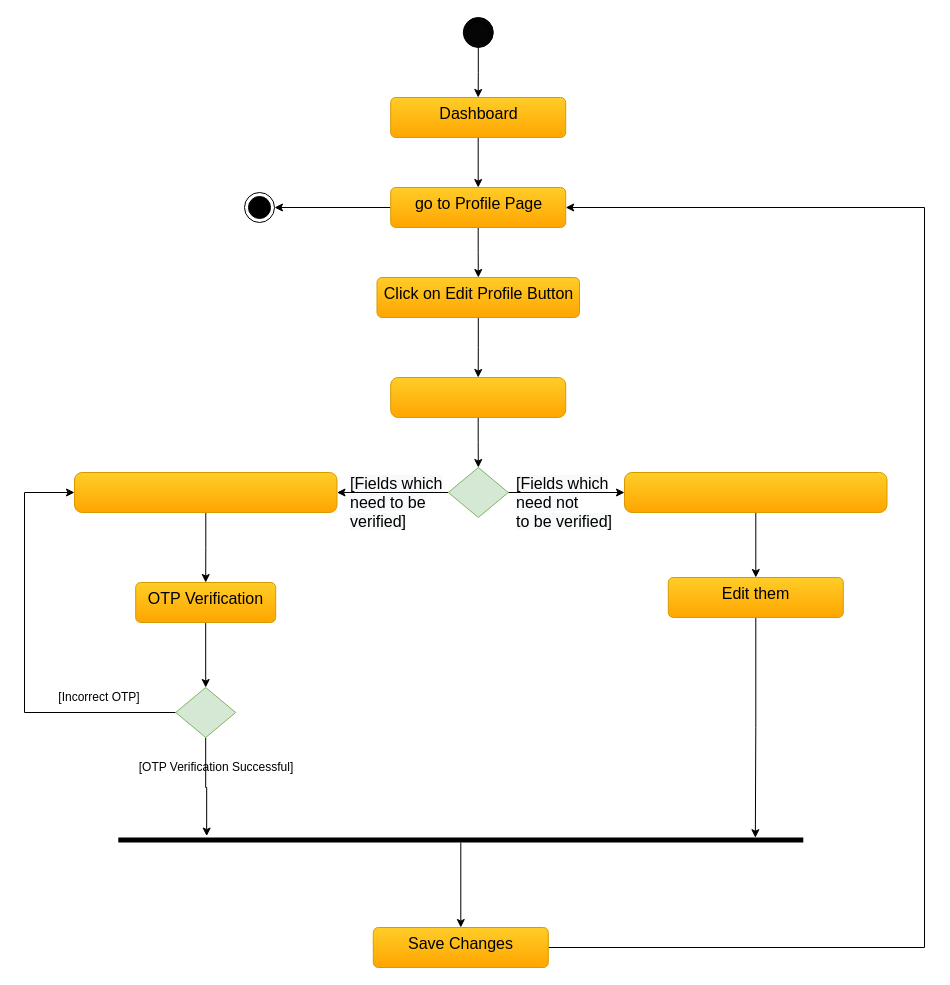
Some shapes in this 950 by 985 pixel diagram are drawn without their labels. The shapes that lost their labels are listed below. From the top down, each one's centre as x and y in pixels, then its label:
At point (478, 397): "Select the field".
At point (205, 492): "Phone Number".
At point (755, 492): "Education, Achievements etc.".
